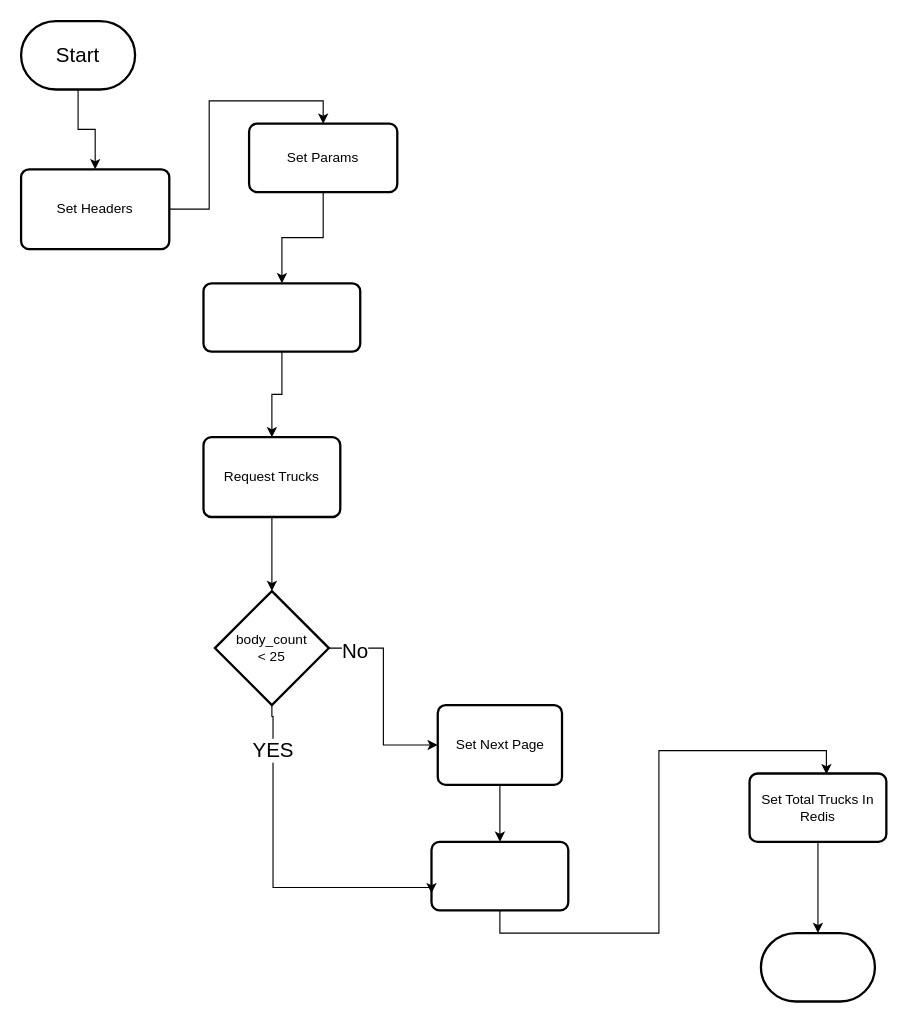
The diagram is 906 pixels wide and 1021 high, and some of its shapes have lost their labels. The box of each missing label's shape, as (x1, y1, x2, y2) in pixels:
Construct Url: (202, 282, 361, 352)
End: (759, 931, 876, 1002)
Save New Trucks: (430, 840, 569, 911)
